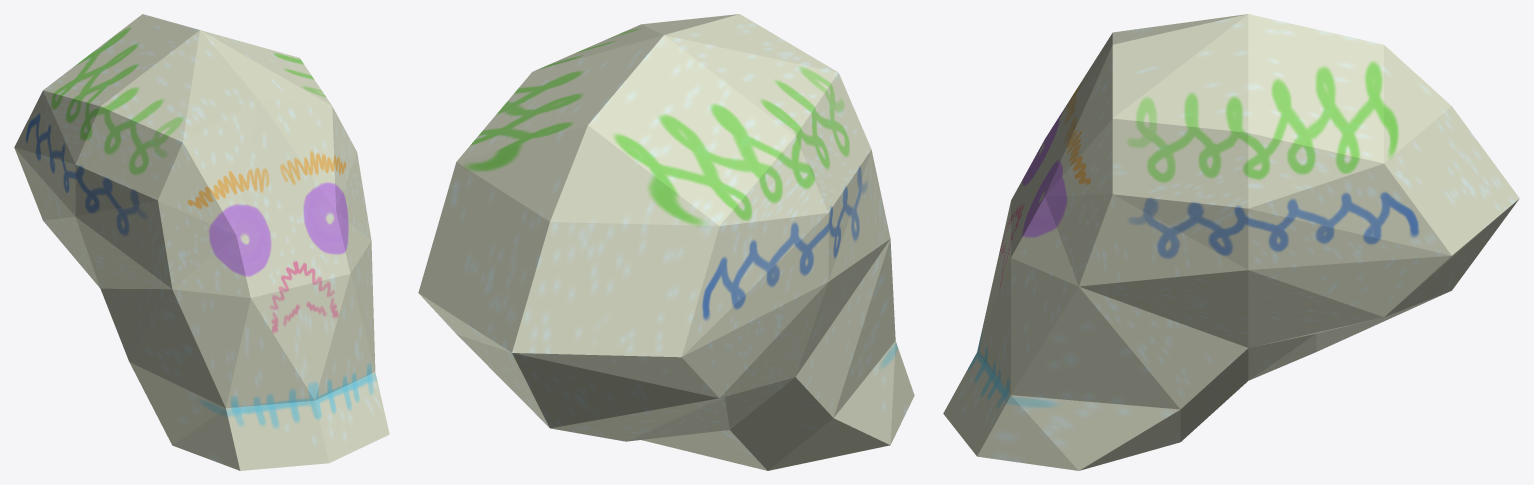
The model's file is skull.glb.
3 renders of one model, left to right at view 1: azimuth 30°, elevation 25°; view 2: azimuth 150°, elevation 25°; view 3: azimuth 270°, elevation 25°, orthographic. The views are drawn at different scales.
Visible parts, largest first — view 1: Cube; view 2: Cube; view 3: Cube.
Part boxes in pixels (x1=…): Cube: x1=14, y1=14, x2=389, y2=470; Cube: x1=418, y1=14, x2=914, y2=470; Cube: x1=943, y1=14, x2=1519, y2=470.
Size of the model in its own units: 0.5003 by 0.65 by 0.85.
Materials: 1 (1 with a texture image).
